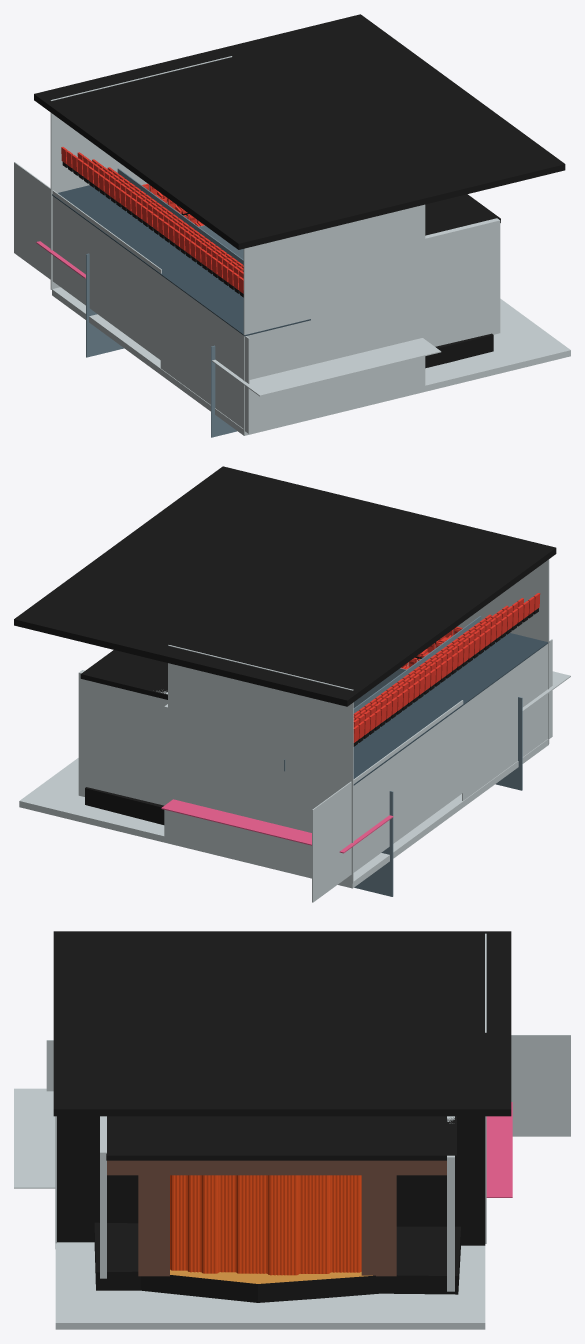
Rendered from room.glb.
3 renders of one model, top to bottom at view 1: azimuth 30°, elevation 25°; view 2: azimuth 150°, elevation 25°; view 3: azimuth 270°, elevation 25°, orthographic. The views are drawn at different scales.
Visible parts, largest first — view 1: group818006074, group1079906564, group1905365015, group1275667551, group1296082119; view 2: group1079906564, group818006074, group1905365015, group1275667551, group1296082119, group825709056; view 3: group1079906564, group818006074, group1530391114, group1089502856, group825709056.
Part boxes in pixels (x1,y1,x2,y2): group818006074: (14, 56, 570, 435); group1079906564: (34, 14, 565, 368); group1905365015: (52, 185, 310, 336); group1275667551: (61, 147, 243, 293); group1296082119: (86, 168, 243, 437); group1079906564: (14, 466, 556, 824); group818006074: (19, 559, 570, 902); group1905365015: (353, 633, 549, 785); group1275667551: (353, 593, 540, 742); group1296082119: (284, 616, 522, 896); group825709056: (161, 799, 393, 853); group1079906564: (53, 931, 511, 1302); group818006074: (14, 933, 570, 1329); group1530391114: (170, 1175, 361, 1275); group1089502856: (107, 1160, 446, 1276); group825709056: (486, 1102, 512, 1197).
Bounding box in the file's own units: 15.64 × 10.29 × 20.27.
